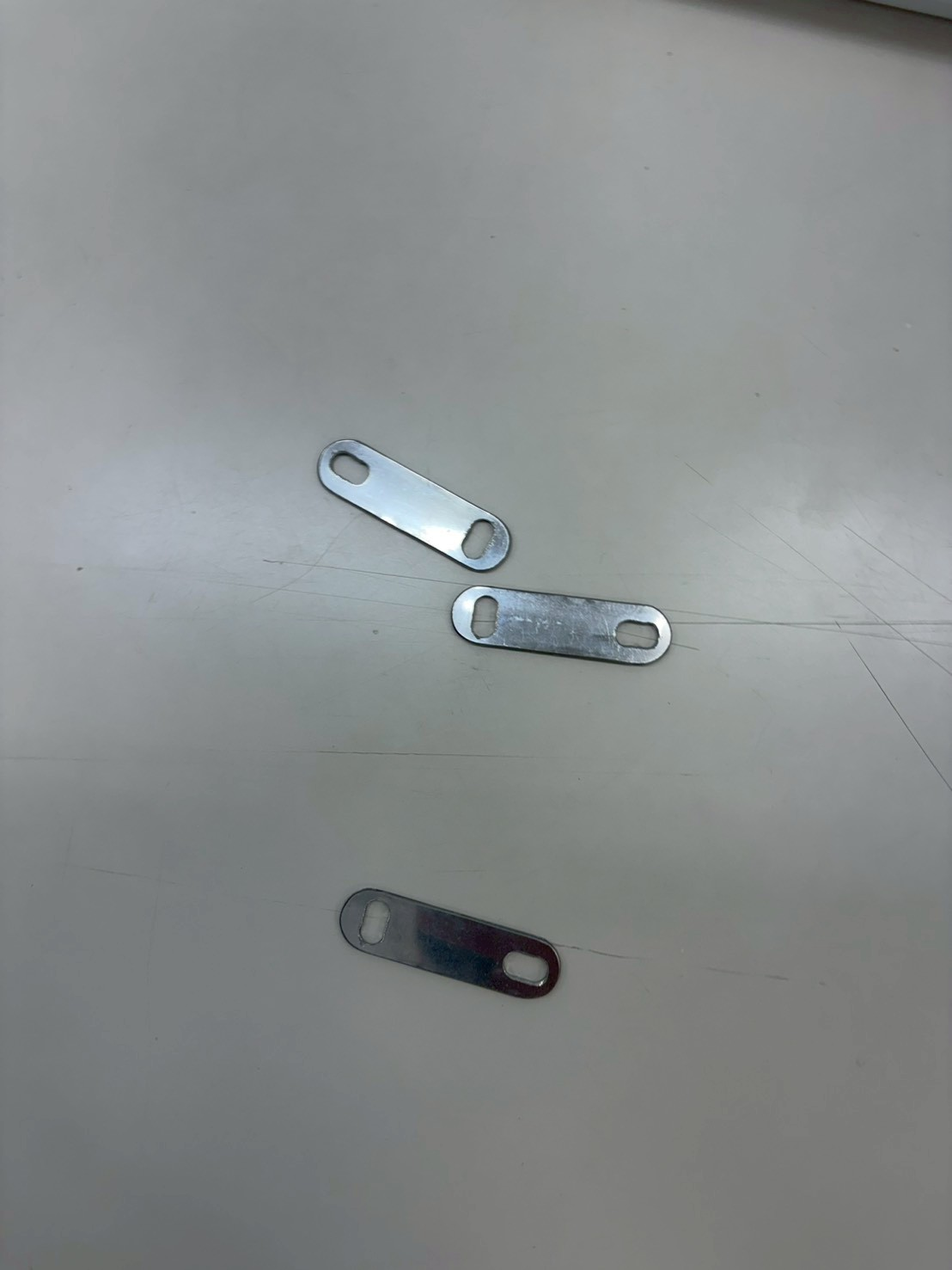Fe: (309, 428, 519, 575), (324, 885, 572, 1006), (443, 575, 676, 672)
